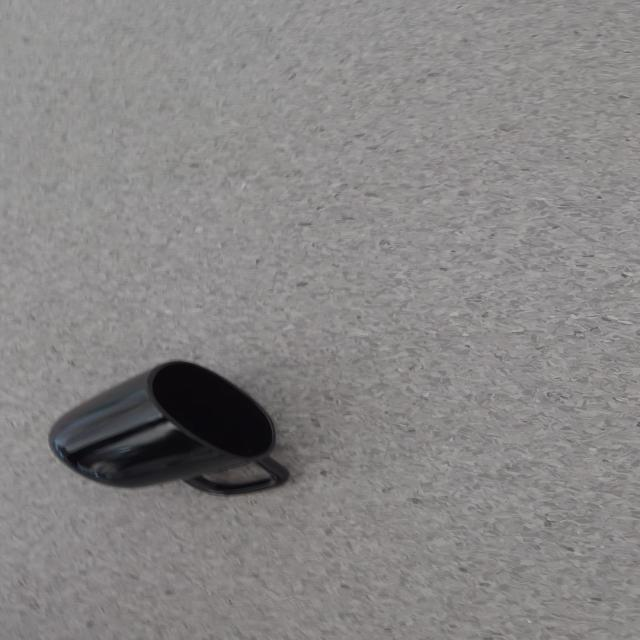mug: (47, 358, 290, 496)
